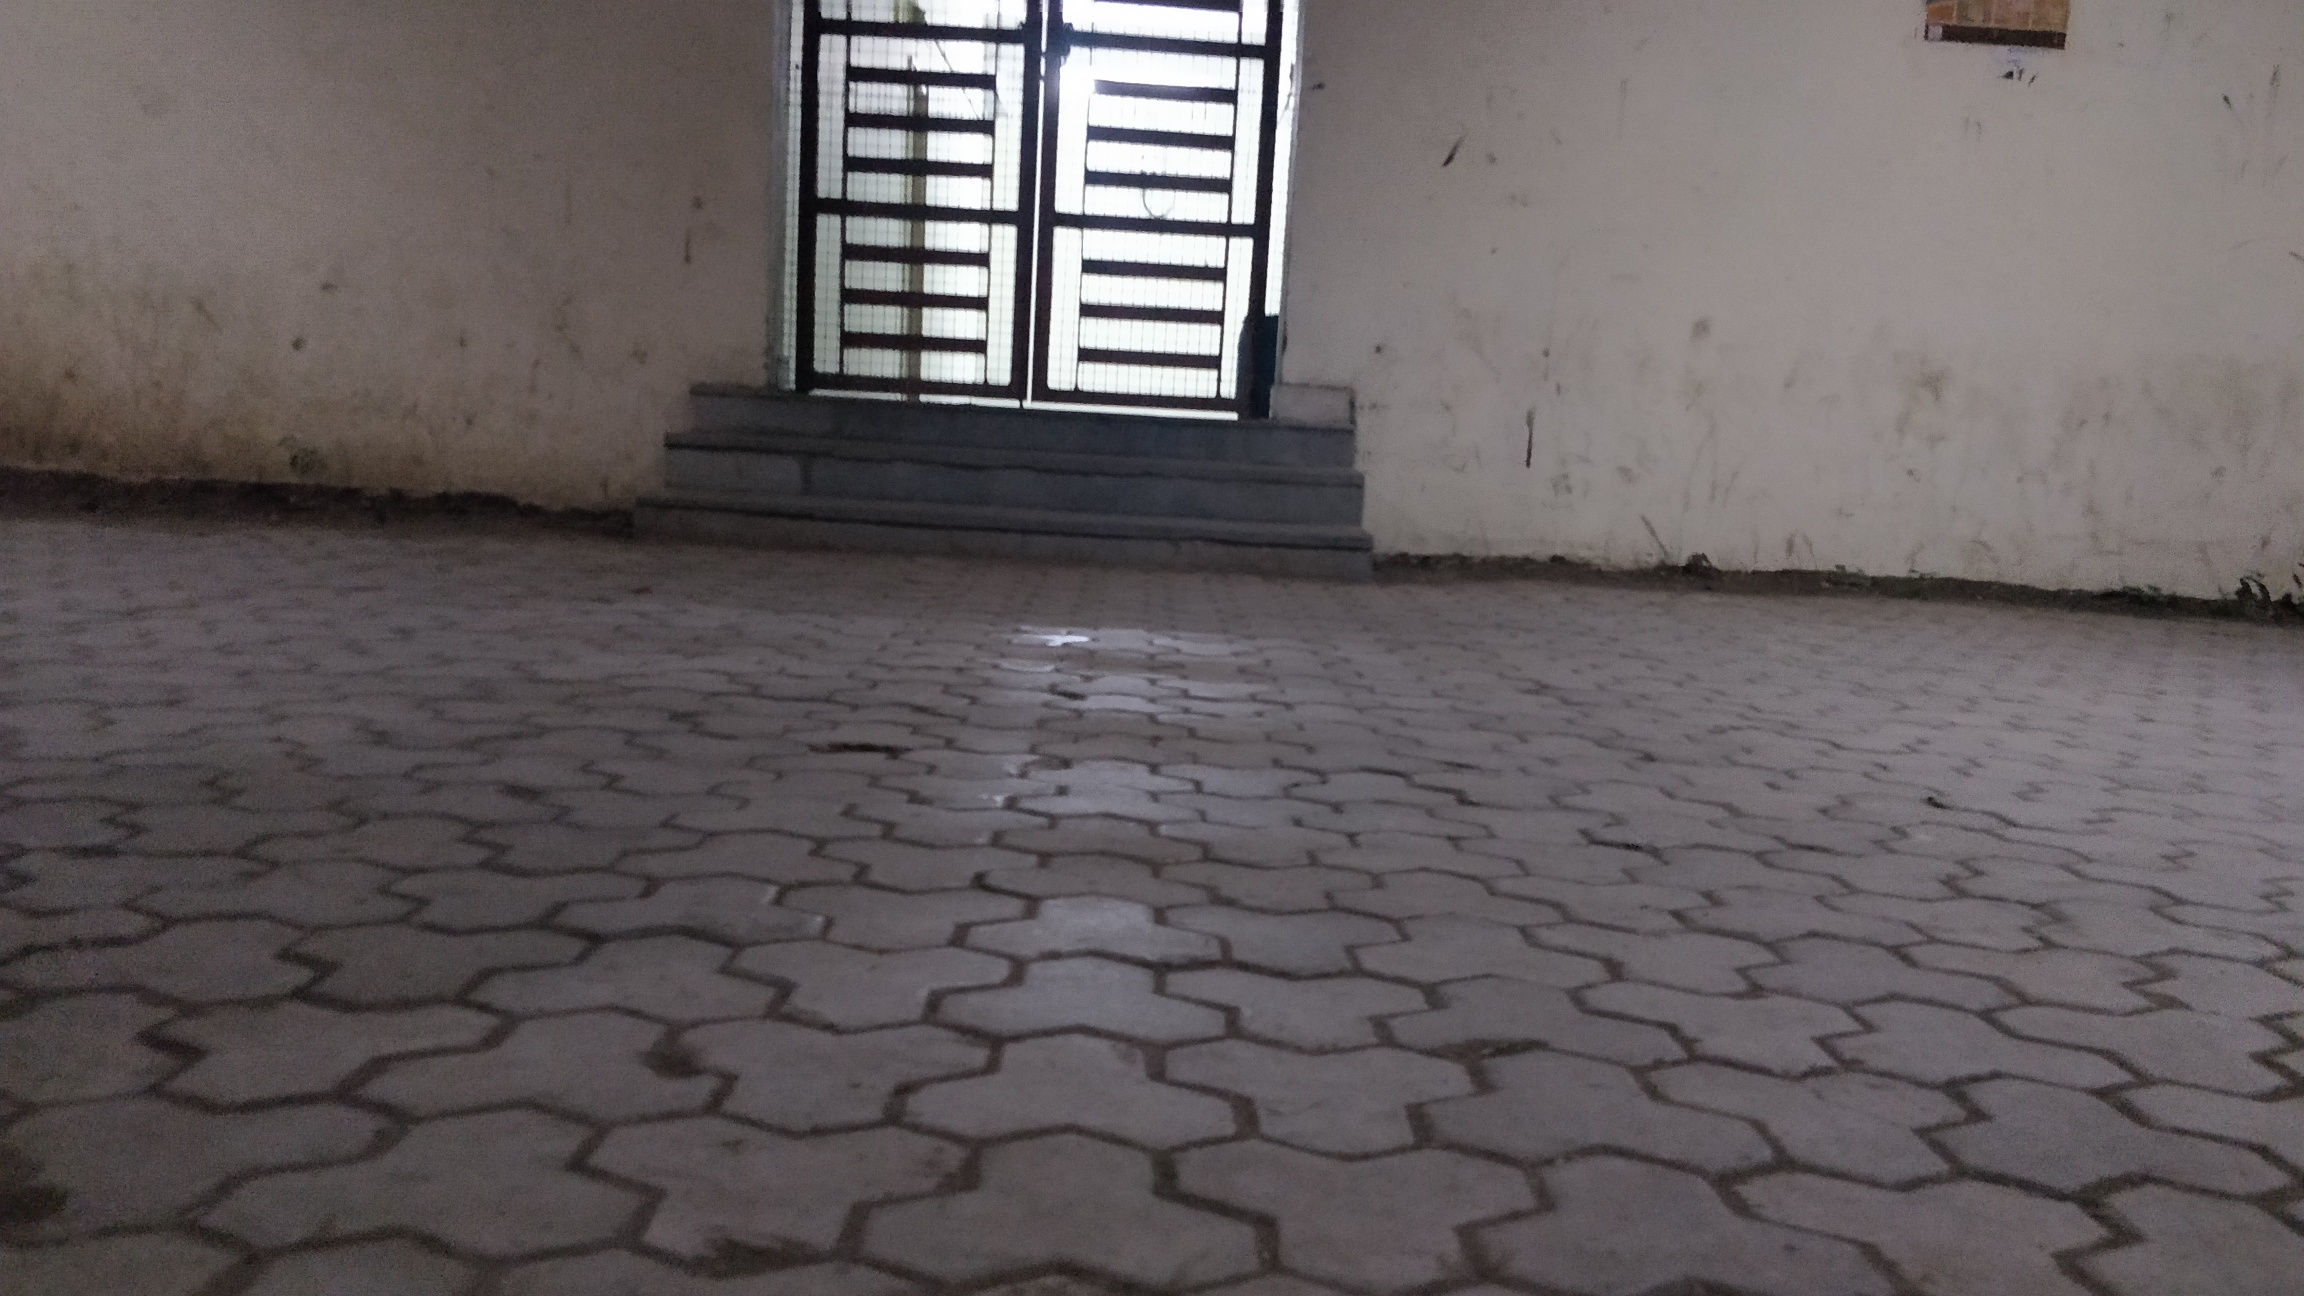stairs_up: (663, 383, 1364, 578)
